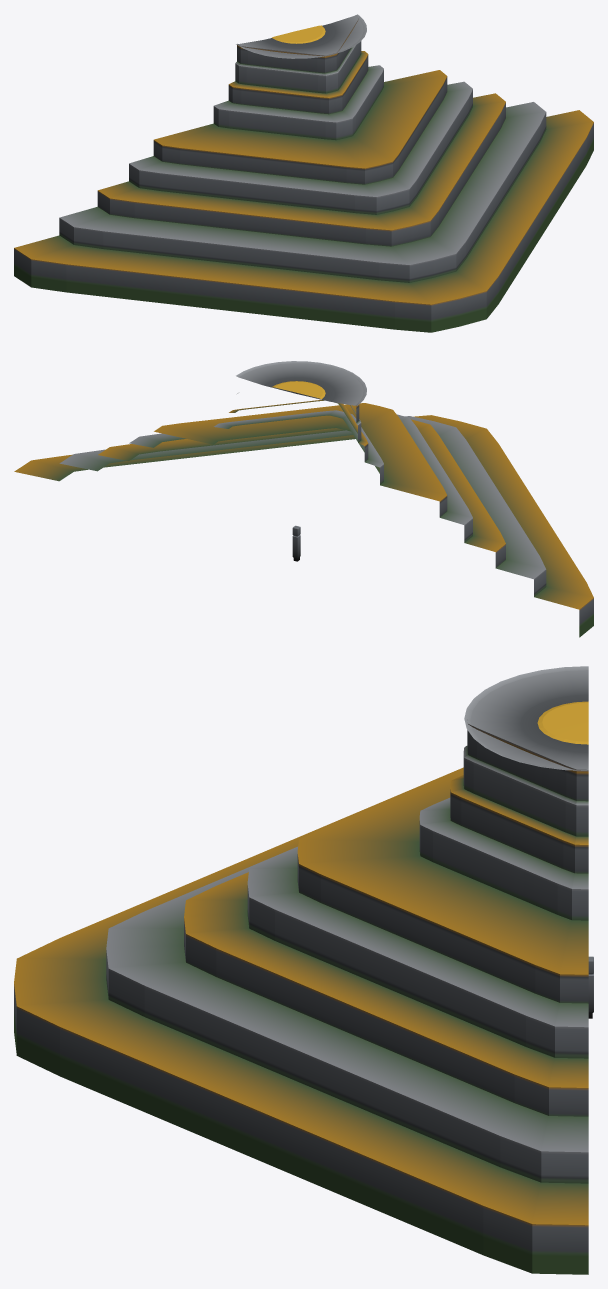
Rendered from temple-s2-FmSmLilI.glb.
3 renders of one model, top to bottom at view 1: azimuth 30°, elevation 25°; view 2: azimuth 150°, elevation 25°; view 3: azimuth 270°, elevation 25°, orthographic. The views are drawn at different scales.
Visible parts, largest first — view 1: sc_landmark_1; view 2: sc_landmark_1; view 3: sc_landmark_1.
Boxes of the visible parts, x1,y1,x2,y2 form: sc_landmark_1: (14, 14, 593, 332); sc_landmark_1: (14, 361, 593, 637); sc_landmark_1: (14, 666, 588, 1274).
Size of the model in its own units: 758 by 228 by 383.
